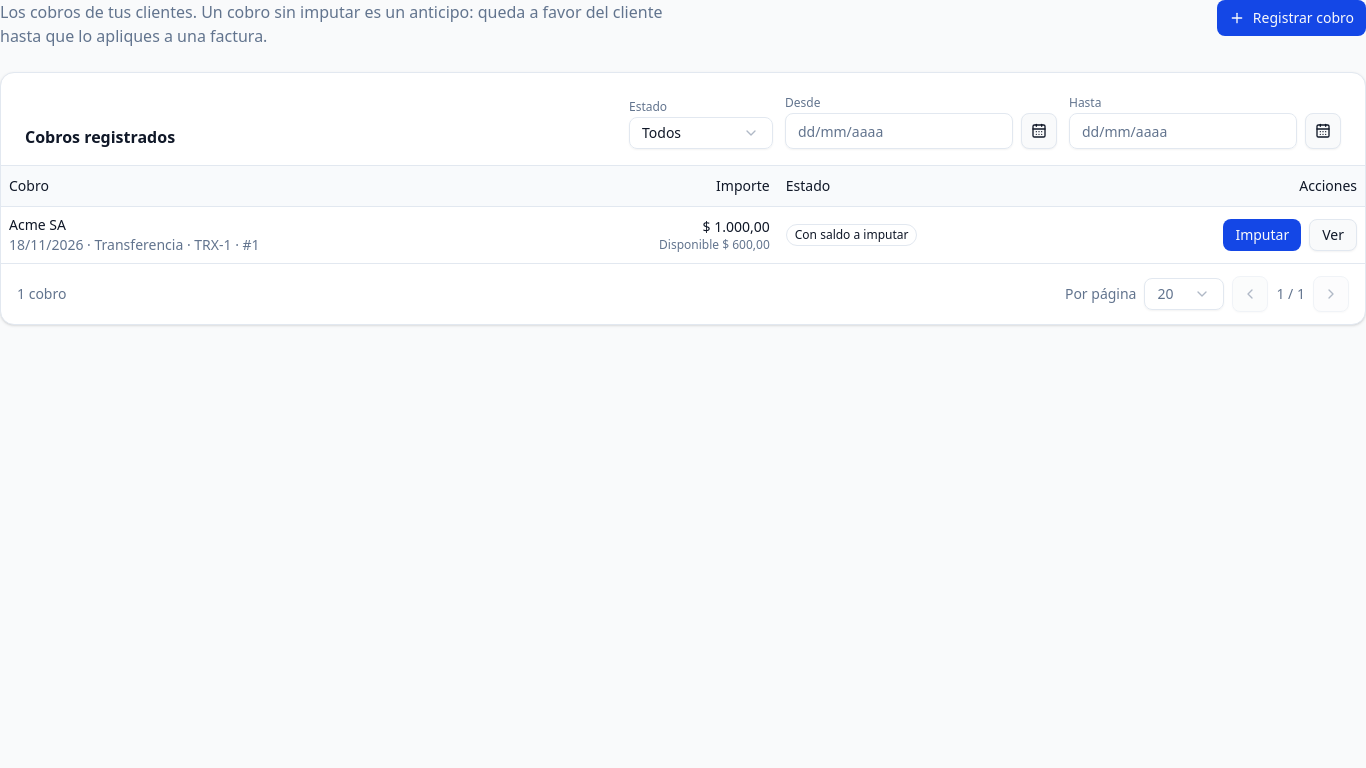
Test: Detalle de un cobro › liberar una imputación › si el servidor lo rechaza muestra el motivo
Click the button with aria-label "Ver cobro 1" at (1333, 234), box [1309, 218, 1357, 250]
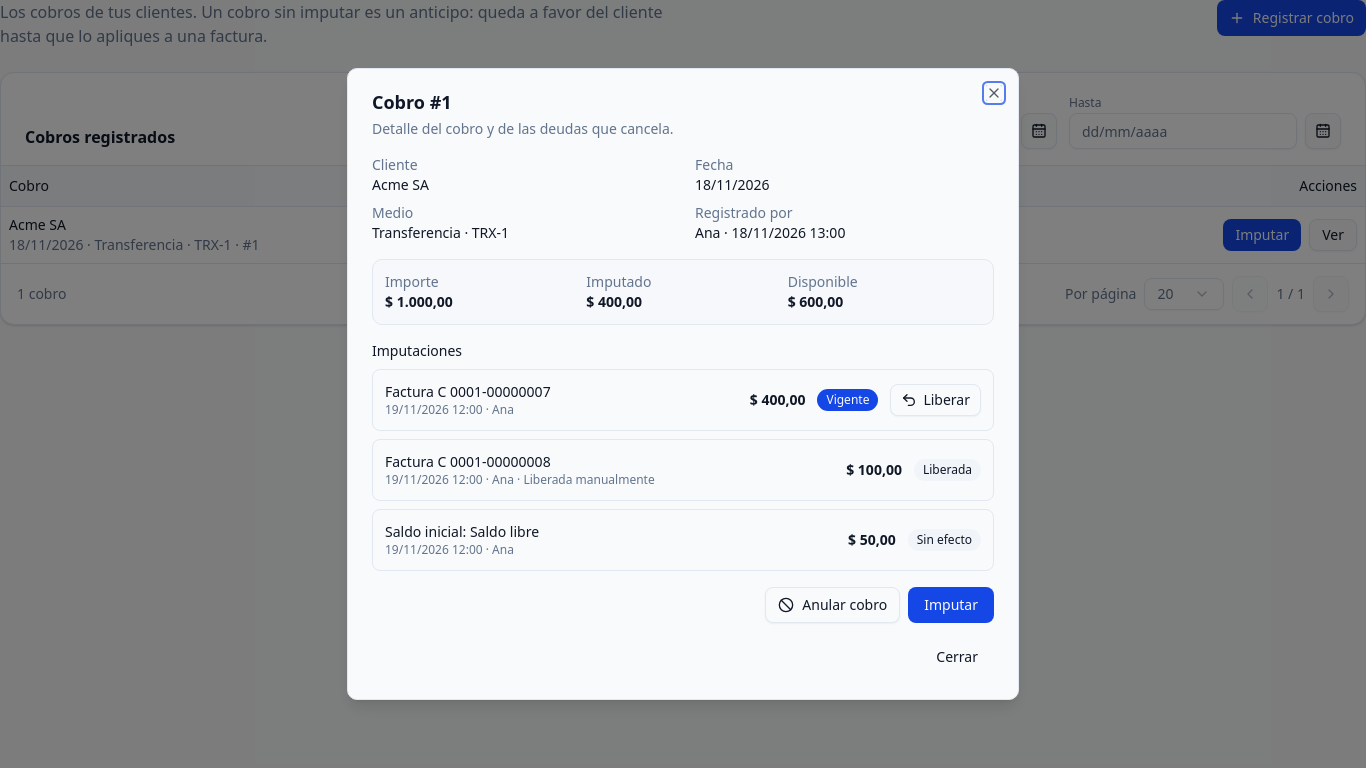
Click the button with aria-label "Liberar imputación a Factura C 0001-00000007" at (936, 400), box [890, 384, 981, 416]
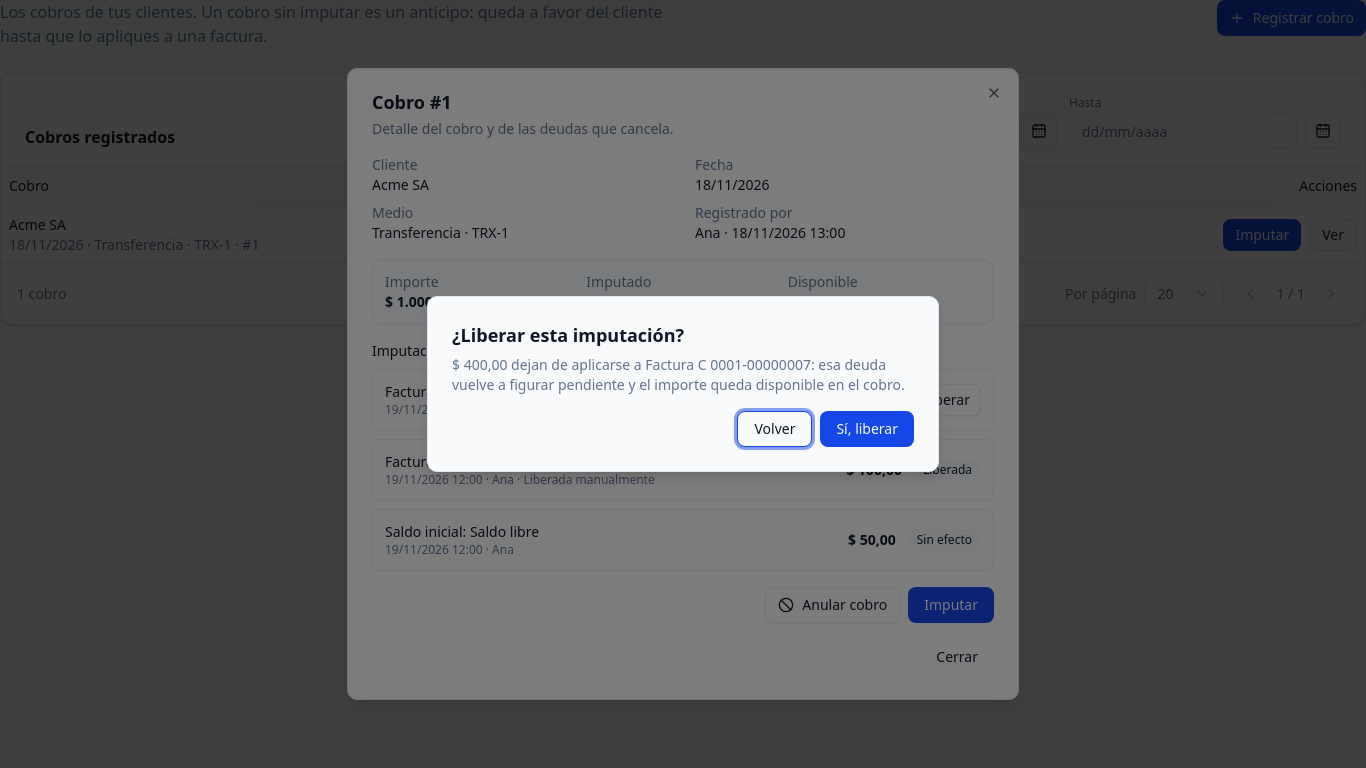
Click the button "Sí, liberar" at (867, 429), box [820, 411, 914, 447]
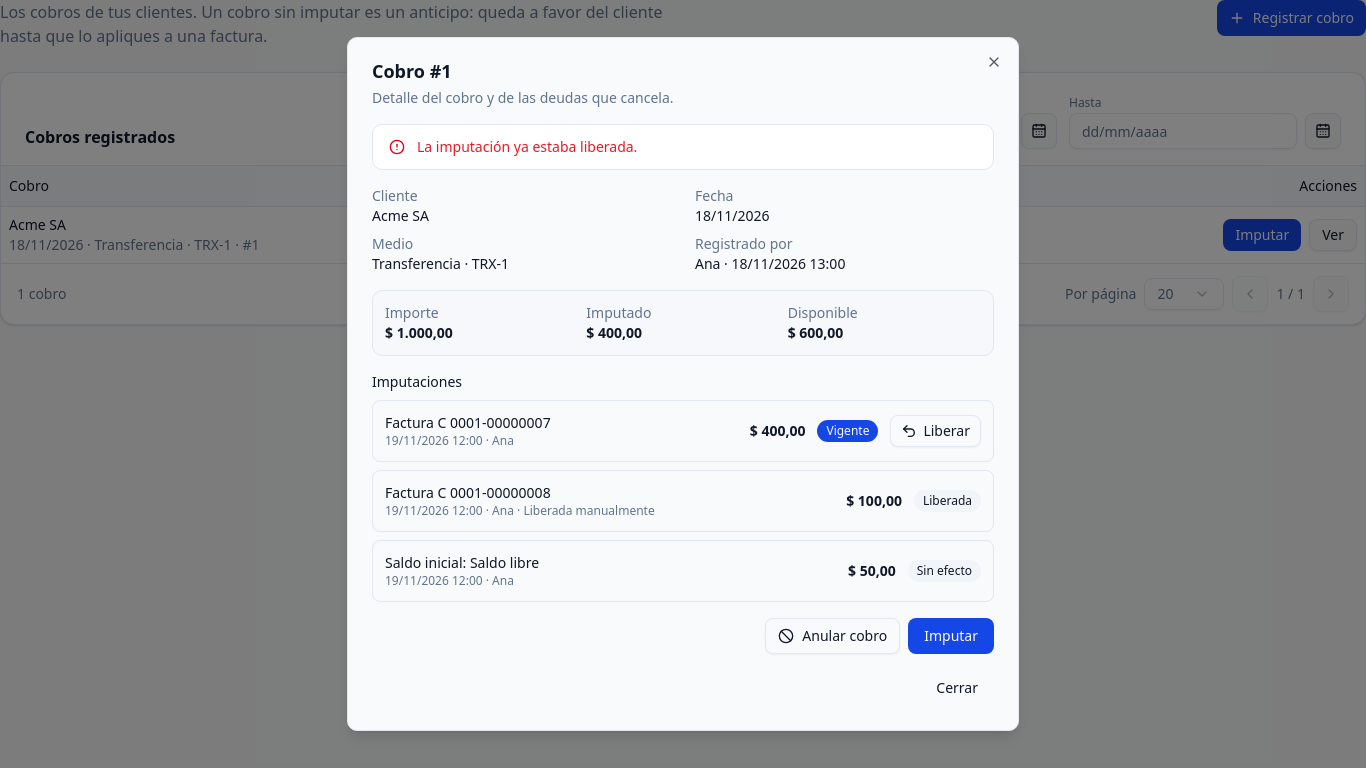
Result: the text "La imputación ya estaba liberada." is shown at [417, 137, 637, 156]
